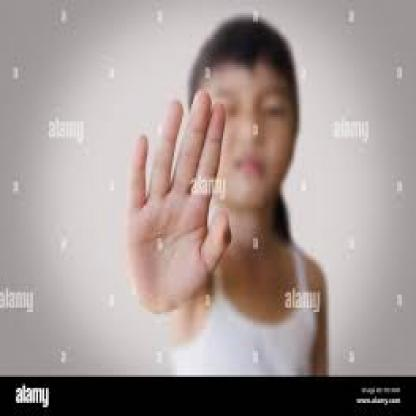stop: (127, 90, 235, 312)
